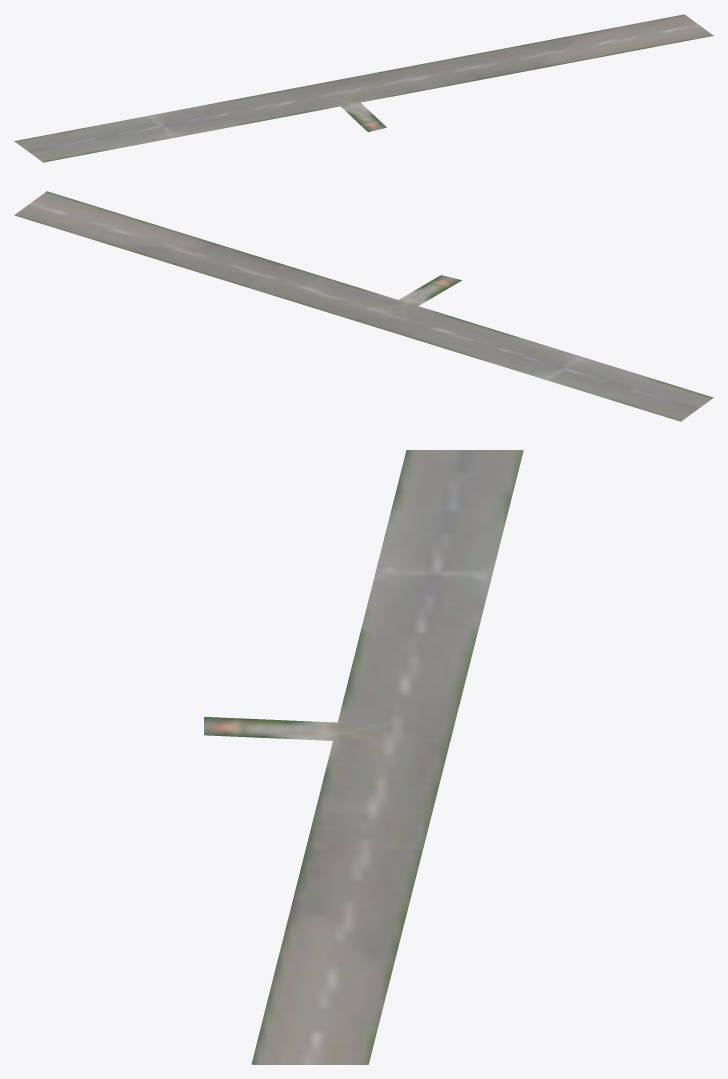
File: LSMM_-2_0.glb
3 views of the same model, one above another, from view 1: azimuth 30°, elevation 25°; view 2: azimuth 150°, elevation 25°; view 3: azimuth 270°, elevation 25° (orthographic). The views are drawn at different scales.
Visible parts, largest first — view 1: pavement_LSMM_pavement_5301_2354; view 2: pavement_LSMM_pavement_5301_2354; view 3: pavement_LSMM_pavement_5301_2354.
Part boxes in pixels (x1=…): pavement_LSMM_pavement_5301_2354: x1=14, y1=14, x2=713, y2=162; pavement_LSMM_pavement_5301_2354: x1=14, y1=191, x2=713, y2=421; pavement_LSMM_pavement_5301_2354: x1=204, y1=450, x2=523, y2=1064.
Bounding box in the file's own units: 500 × 0.7717 × 110.
1 material, 1 textured.
